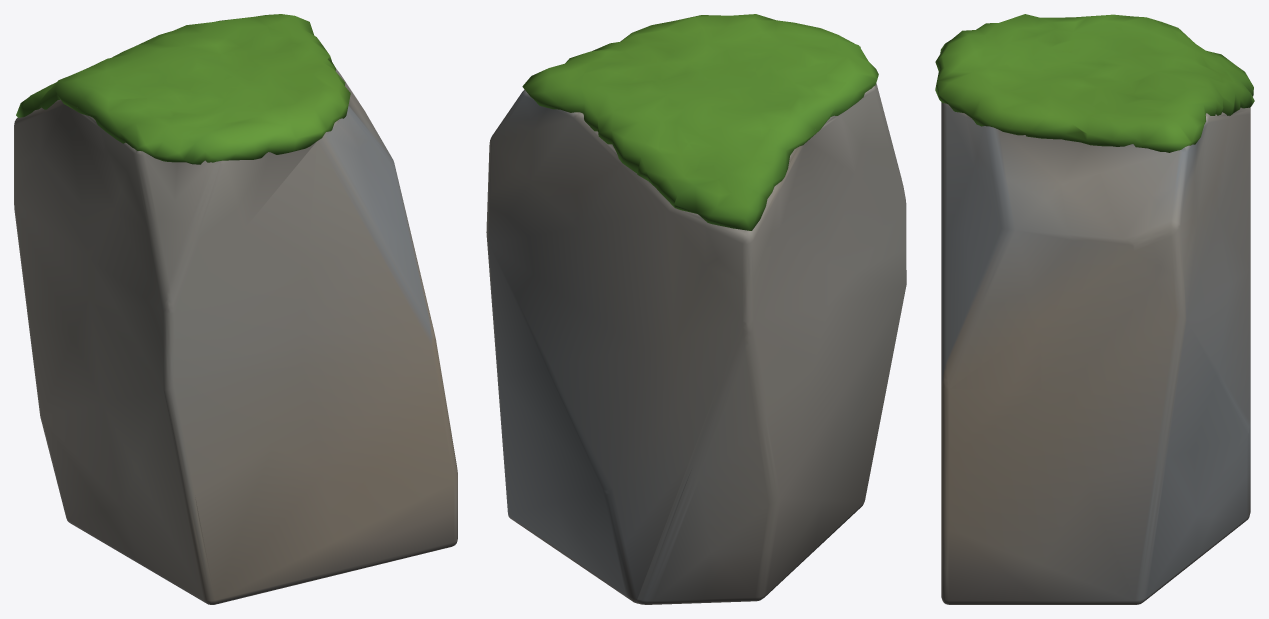
The model's file is grotto_rock_c.glb.
3 views of the same model, side by side, from view 1: azimuth 30°, elevation 25°; view 2: azimuth 150°, elevation 25°; view 3: azimuth 270°, elevation 25° (orthographic). The views are drawn at different scales.
Visible parts, largest first — view 1: grotto_rock_c, moss; view 2: grotto_rock_c, moss; view 3: grotto_rock_c, moss.
Boxes of the visible parts, bbox=[...] form: grotto_rock_c: bbox=[14, 69, 457, 604]; moss: bbox=[16, 14, 350, 164]; grotto_rock_c: bbox=[486, 83, 906, 604]; moss: bbox=[522, 14, 878, 230]; grotto_rock_c: bbox=[941, 102, 1250, 604]; moss: bbox=[935, 14, 1254, 152].
Size of the model in its own units: 2.63 by 3.94 by 2.48.
